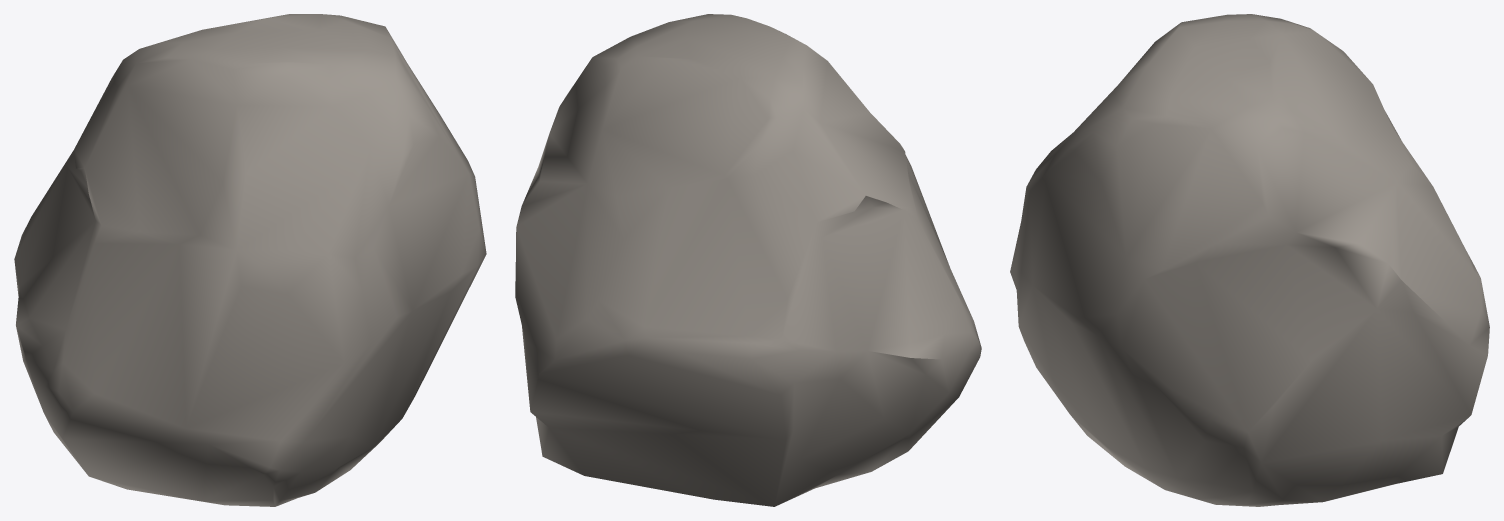
The model's file is Environment_Rock_4.gltf.
3 renders of one model, left to right at view 1: azimuth 30°, elevation 25°; view 2: azimuth 150°, elevation 25°; view 3: azimuth 270°, elevation 25°, orthographic. The views are drawn at different scales.
Parts seen in each view (by area): view 1: Environment_Rock_4; view 2: Environment_Rock_4; view 3: Environment_Rock_4.
Boxes of the visible parts, x1,y1,x2,y2 form: Environment_Rock_4: [14, 14, 486, 506]; Environment_Rock_4: [515, 14, 981, 506]; Environment_Rock_4: [1010, 14, 1489, 506].
Size of the model in its own units: 0.7628 by 0.7114 by 0.746.
Materials: 1 (1 with a texture image).
